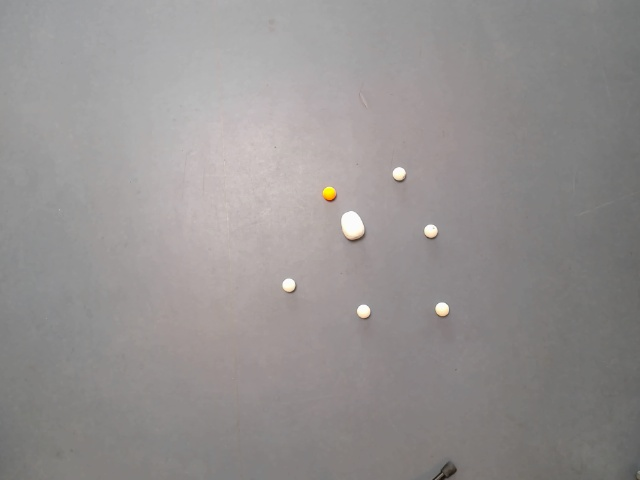egg: (338, 207, 366, 242)
orange: (322, 183, 338, 201)
white: (388, 165, 408, 183), (421, 222, 440, 240), (432, 300, 450, 318), (355, 303, 372, 320), (280, 276, 296, 294)
